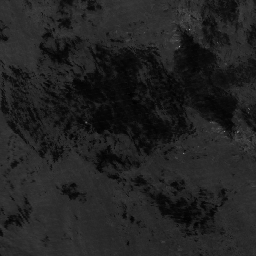Target: (83, 120, 88, 125)
